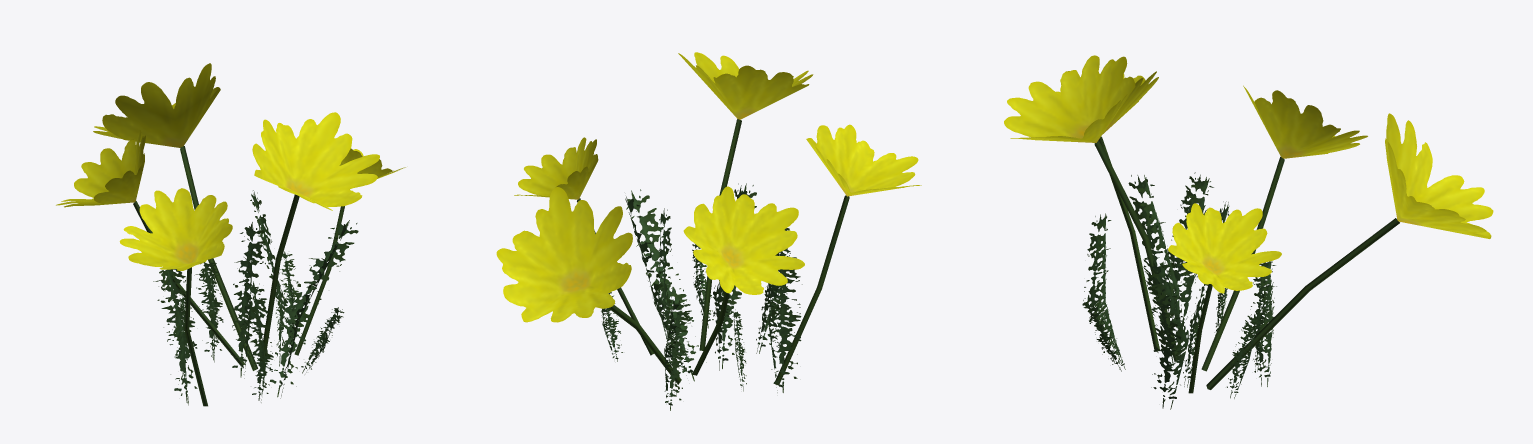
File: Adonis.fbx
The picture shows the model from 3 angles, left to right: view 1: azimuth 30°, elevation 25°; view 2: azimuth 150°, elevation 25°; view 3: azimuth 270°, elevation 25°; orthographic projection. The views are drawn at different scales.
Visible parts, largest first — view 1: Adonis; view 2: Adonis; view 3: Adonis.
Boxes of the visible parts, x1=… form: Adonis: x1=56, y1=63, x2=405, y2=406; Adonis: x1=496, y1=52, x2=921, y2=410; Adonis: x1=1004, y1=55, x2=1493, y2=409.
Size of the model in its own units: 45.15 by 38.64 by 49.4.
